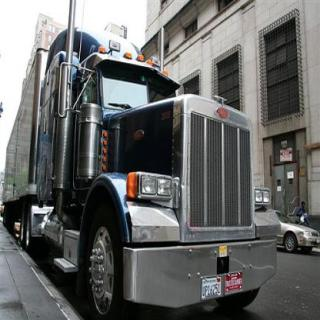Normal_vehicle: (2, 1, 291, 318)
